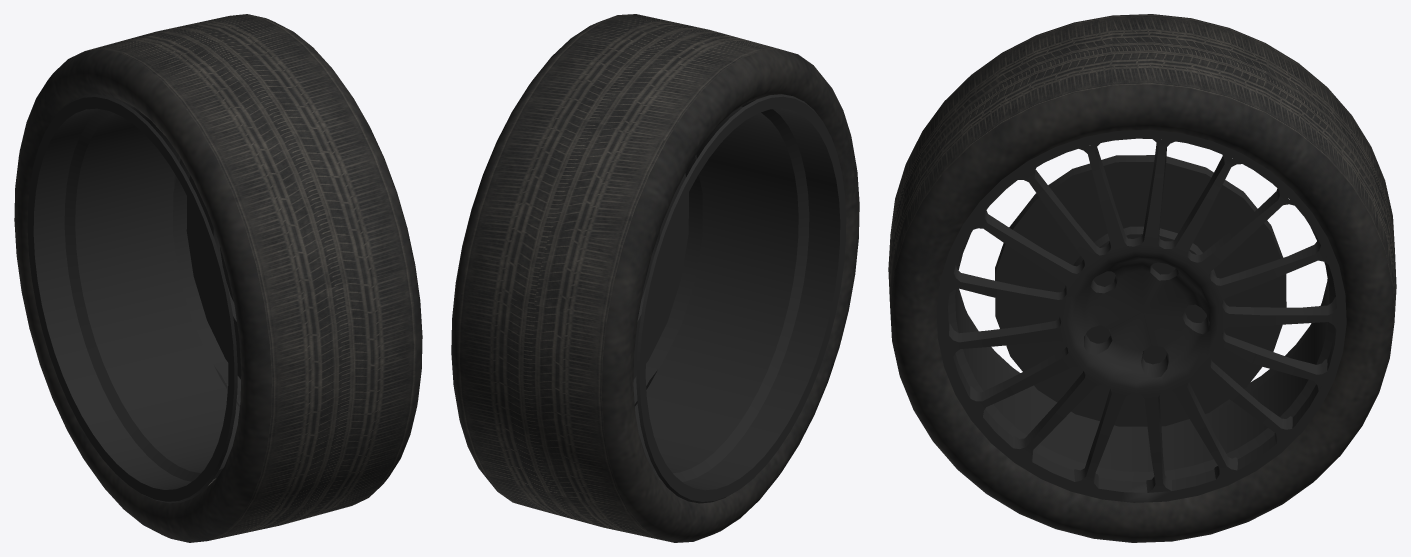
File: wheel.fbx
The picture shows the model from 3 angles, left to right: view 1: azimuth 30°, elevation 25°; view 2: azimuth 150°, elevation 25°; view 3: azimuth 270°, elevation 25°; orthographic projection.
Parts seen in each view (by area): view 1: Rear_Left_Wheel; view 2: Rear_Left_Wheel; view 3: Rear_Left_Wheel.
Part boxes in pixels (x1,y1,x2,y2): Rear_Left_Wheel: [14, 14, 422, 542]; Rear_Left_Wheel: [451, 14, 859, 542]; Rear_Left_Wheel: [888, 14, 1396, 542].
Bounding box in the file's own units: 37.62 × 94.89 × 94.61.
Materials: 2 (1 with a texture image).
